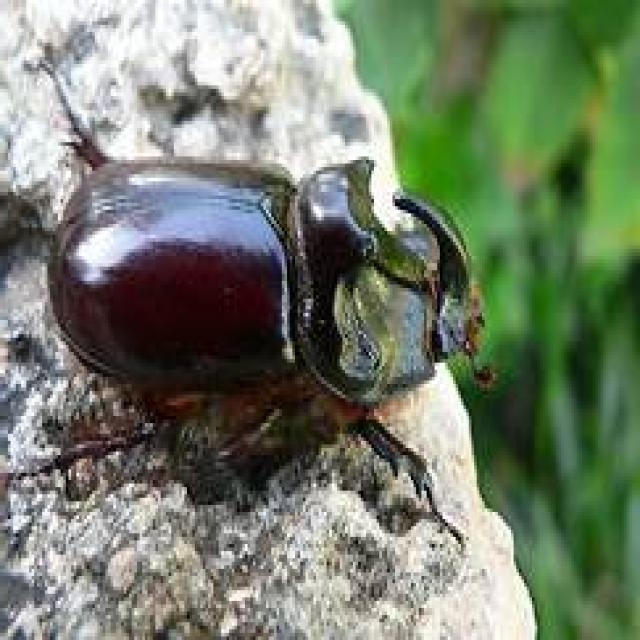Rhino-beetle: (27, 117, 497, 472)
